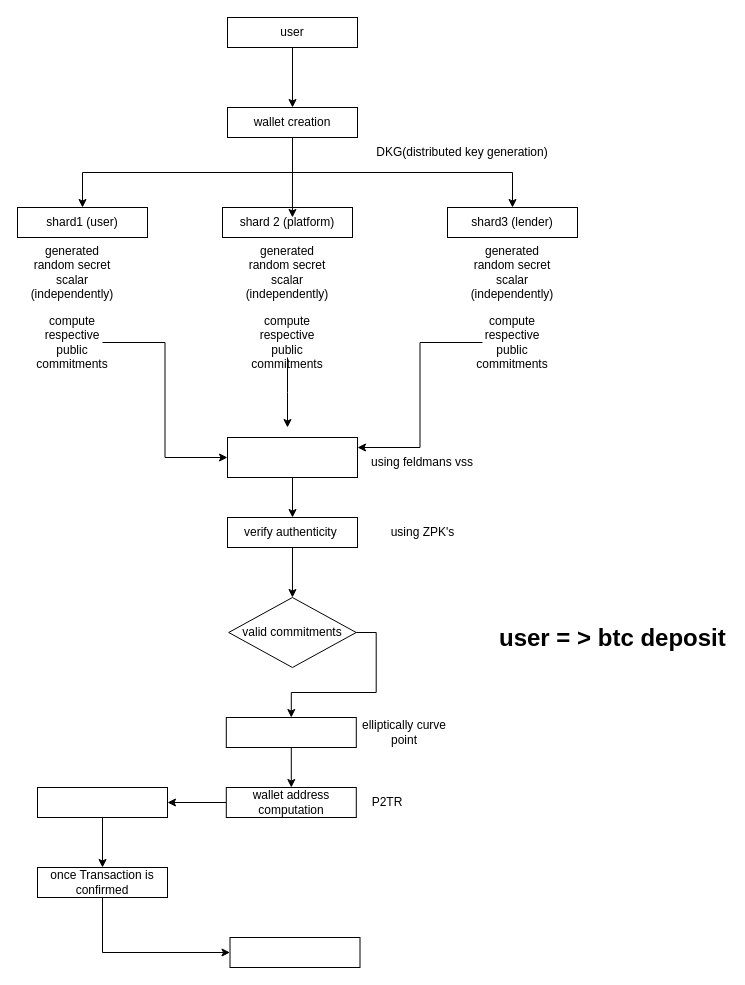
Image size: 745x985. Some labels were removed from this diagram. Each missing label, with the centre of its shape:
computation of public key: point (290, 732)
shared commitments among each other: point (292, 457)
update balance in users wallet: point (294, 952)
user deposit BTC to given address: point (102, 802)
